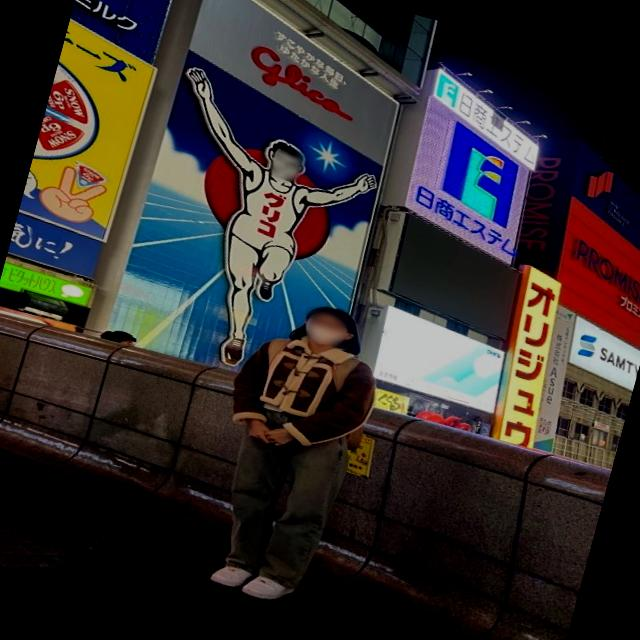denimpants: (210, 399, 352, 593)
jacket: (224, 323, 384, 460)
